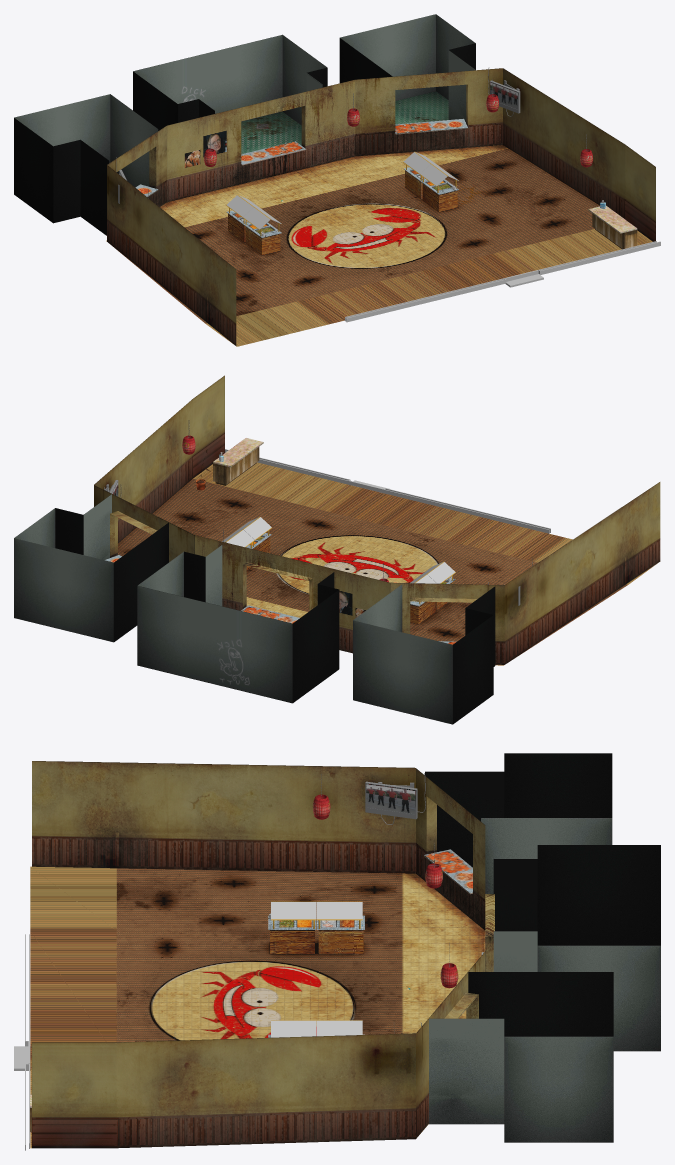
Rendered from BuffetSetup_v009.fbx.
3 views of the same model, one above another, from view 1: azimuth 30°, elevation 25°; view 2: azimuth 150°, elevation 25°; view 3: azimuth 270°, elevation 25° (orthographic). The views are drawn at different scales.
Parts seen in each view (by area): view 1: Buffet_v014:Floor, Buffet_v014:Walls, Buffet_v014:Kitchen, Buffet_v014:CondBar, Buffet_v014:sneezeguards, Buffet_v014:Buffets, Buffet_v014:Cashier, Buffet_v014:Lanterns, Buffet_v014:TVs; view 2: Buffet_v014:Kitchen, Buffet_v014:Floor, Buffet_v014:Walls, Buffet_v014:Cashier, Buffet_v014:sneezeguards, Buffet_v014:CondBar, Buffet_v014:Buffets; view 3: Buffet_v014:Walls, Buffet_v014:Kitchen, Buffet_v014:Floor, Buffet_v014:sneezeguards, Buffet_v014:CondBar, Buffet_v014:TVs, Buffet_v014:Lanterns, Buffet_v014:Buffets.
Part boxes in pixels (x1,y1,x2,y2): Buffet_v014:Floor: (106, 145, 660, 346); Buffet_v014:Walls: (107, 68, 655, 345); Buffet_v014:Kitchen: (14, 14, 475, 235); Buffet_v014:CondBar: (226, 167, 458, 255); Buffet_v014:sneezeguards: (226, 151, 458, 235); Buffet_v014:Buffets: (135, 118, 468, 197); Buffet_v014:Cashier: (588, 200, 637, 249); Buffet_v014:Lanterns: (148, 79, 592, 198); Buffet_v014:TVs: (116, 67, 520, 203); Buffet_v014:Kitchen: (14, 494, 495, 724); Buffet_v014:Floor: (118, 449, 657, 665); Buffet_v014:Walls: (94, 375, 660, 664); Buffet_v014:Cashier: (213, 438, 263, 485); Buffet_v014:sneezeguards: (221, 517, 455, 604); Buffet_v014:CondBar: (246, 533, 455, 624); Buffet_v014:Buffets: (105, 555, 456, 644); Buffet_v014:Walls: (32, 761, 494, 1148); Buffet_v014:Kitchen: (425, 753, 660, 1142); Buffet_v014:Floor: (14, 866, 485, 1150); Buffet_v014:sneezeguards: (271, 901, 362, 1037); Buffet_v014:CondBar: (268, 913, 364, 1037); Buffet_v014:TVs: (365, 773, 425, 1026); Buffet_v014:Lanterns: (174, 774, 458, 1040); Buffet_v014:Buffets: (424, 849, 483, 954).
Bounding box in the file's own units: 970 × 173 × 913.
21 materials, 11 textured.
